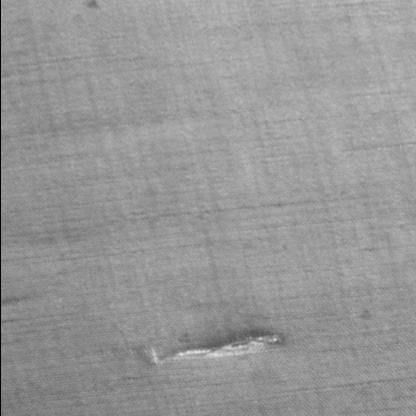hole: (138, 330, 288, 367)
